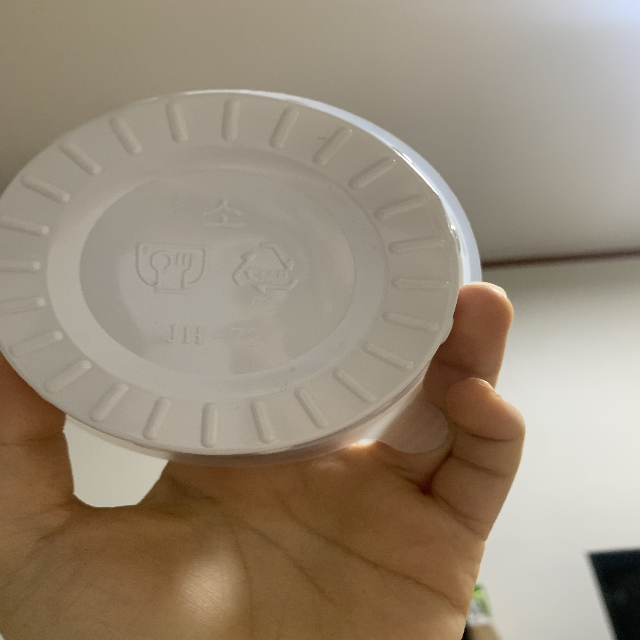ps: (224, 234, 299, 316)
